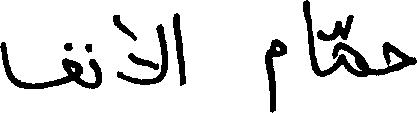X: (0, 37, 81, 93), (118, 10, 166, 89), (332, 10, 366, 81), (266, 34, 285, 112), (384, 37, 416, 79), (302, 0, 316, 79), (172, 8, 185, 90), (90, 39, 101, 93)
